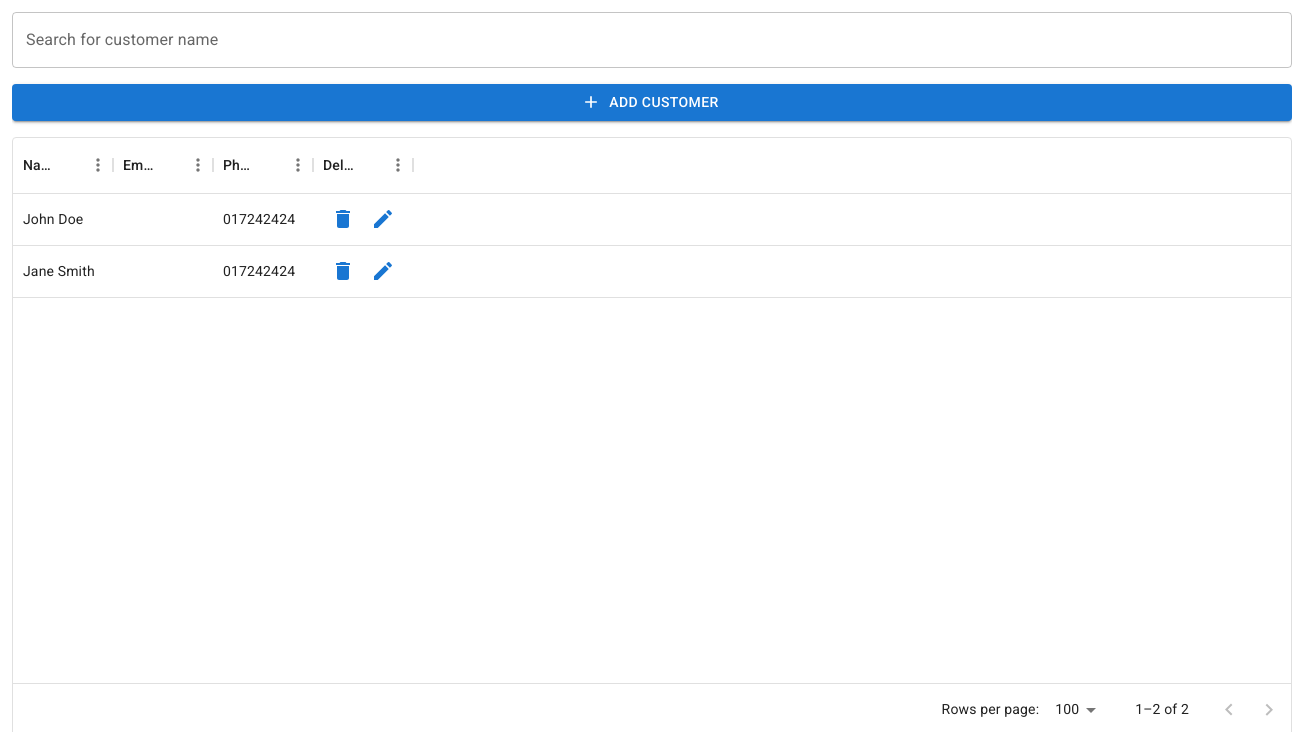
it: CustomerListGrid › filters customers based on search input
Step 1. Type "John" into the field labelled "Search for customer name" → (652, 40), box [12,12,1292,68]
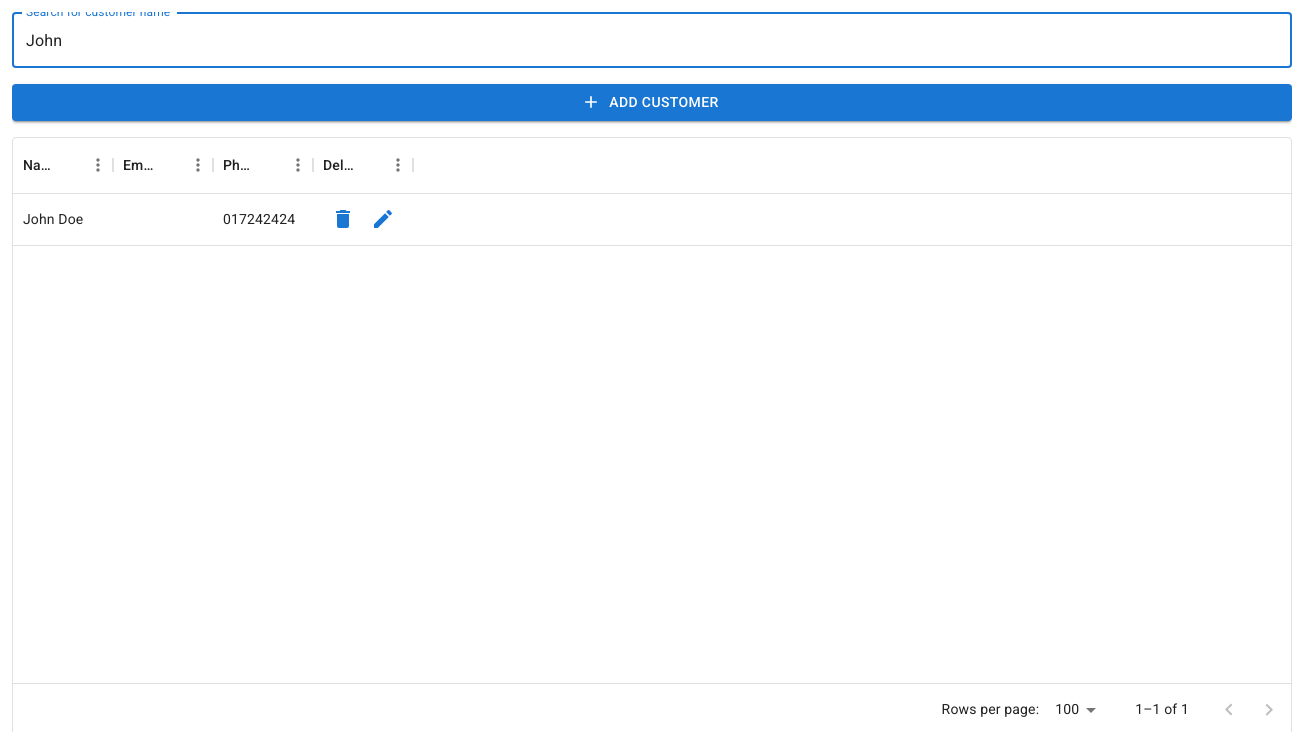
Expected: the text "John Doe" is shown, [23,209,83,229]
Result: the text "Jane Smith" is gone
